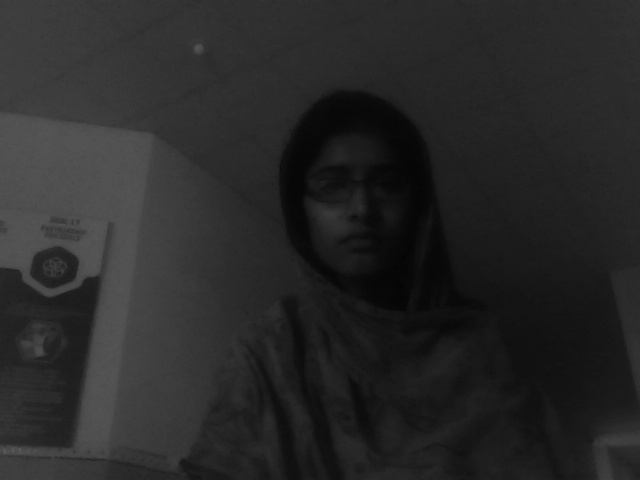Face: (183, 1, 482, 308)
